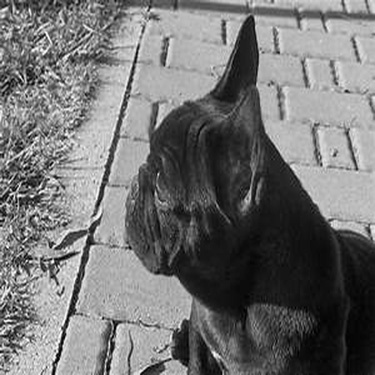dog: (102, 7, 366, 370)
